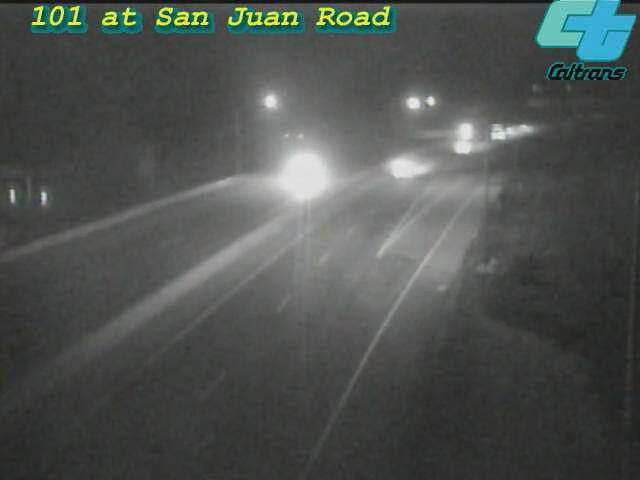vehicle: (267, 131, 347, 211), (370, 124, 450, 204), (441, 104, 491, 154), (500, 101, 550, 151), (479, 106, 529, 156), (442, 120, 492, 170)
